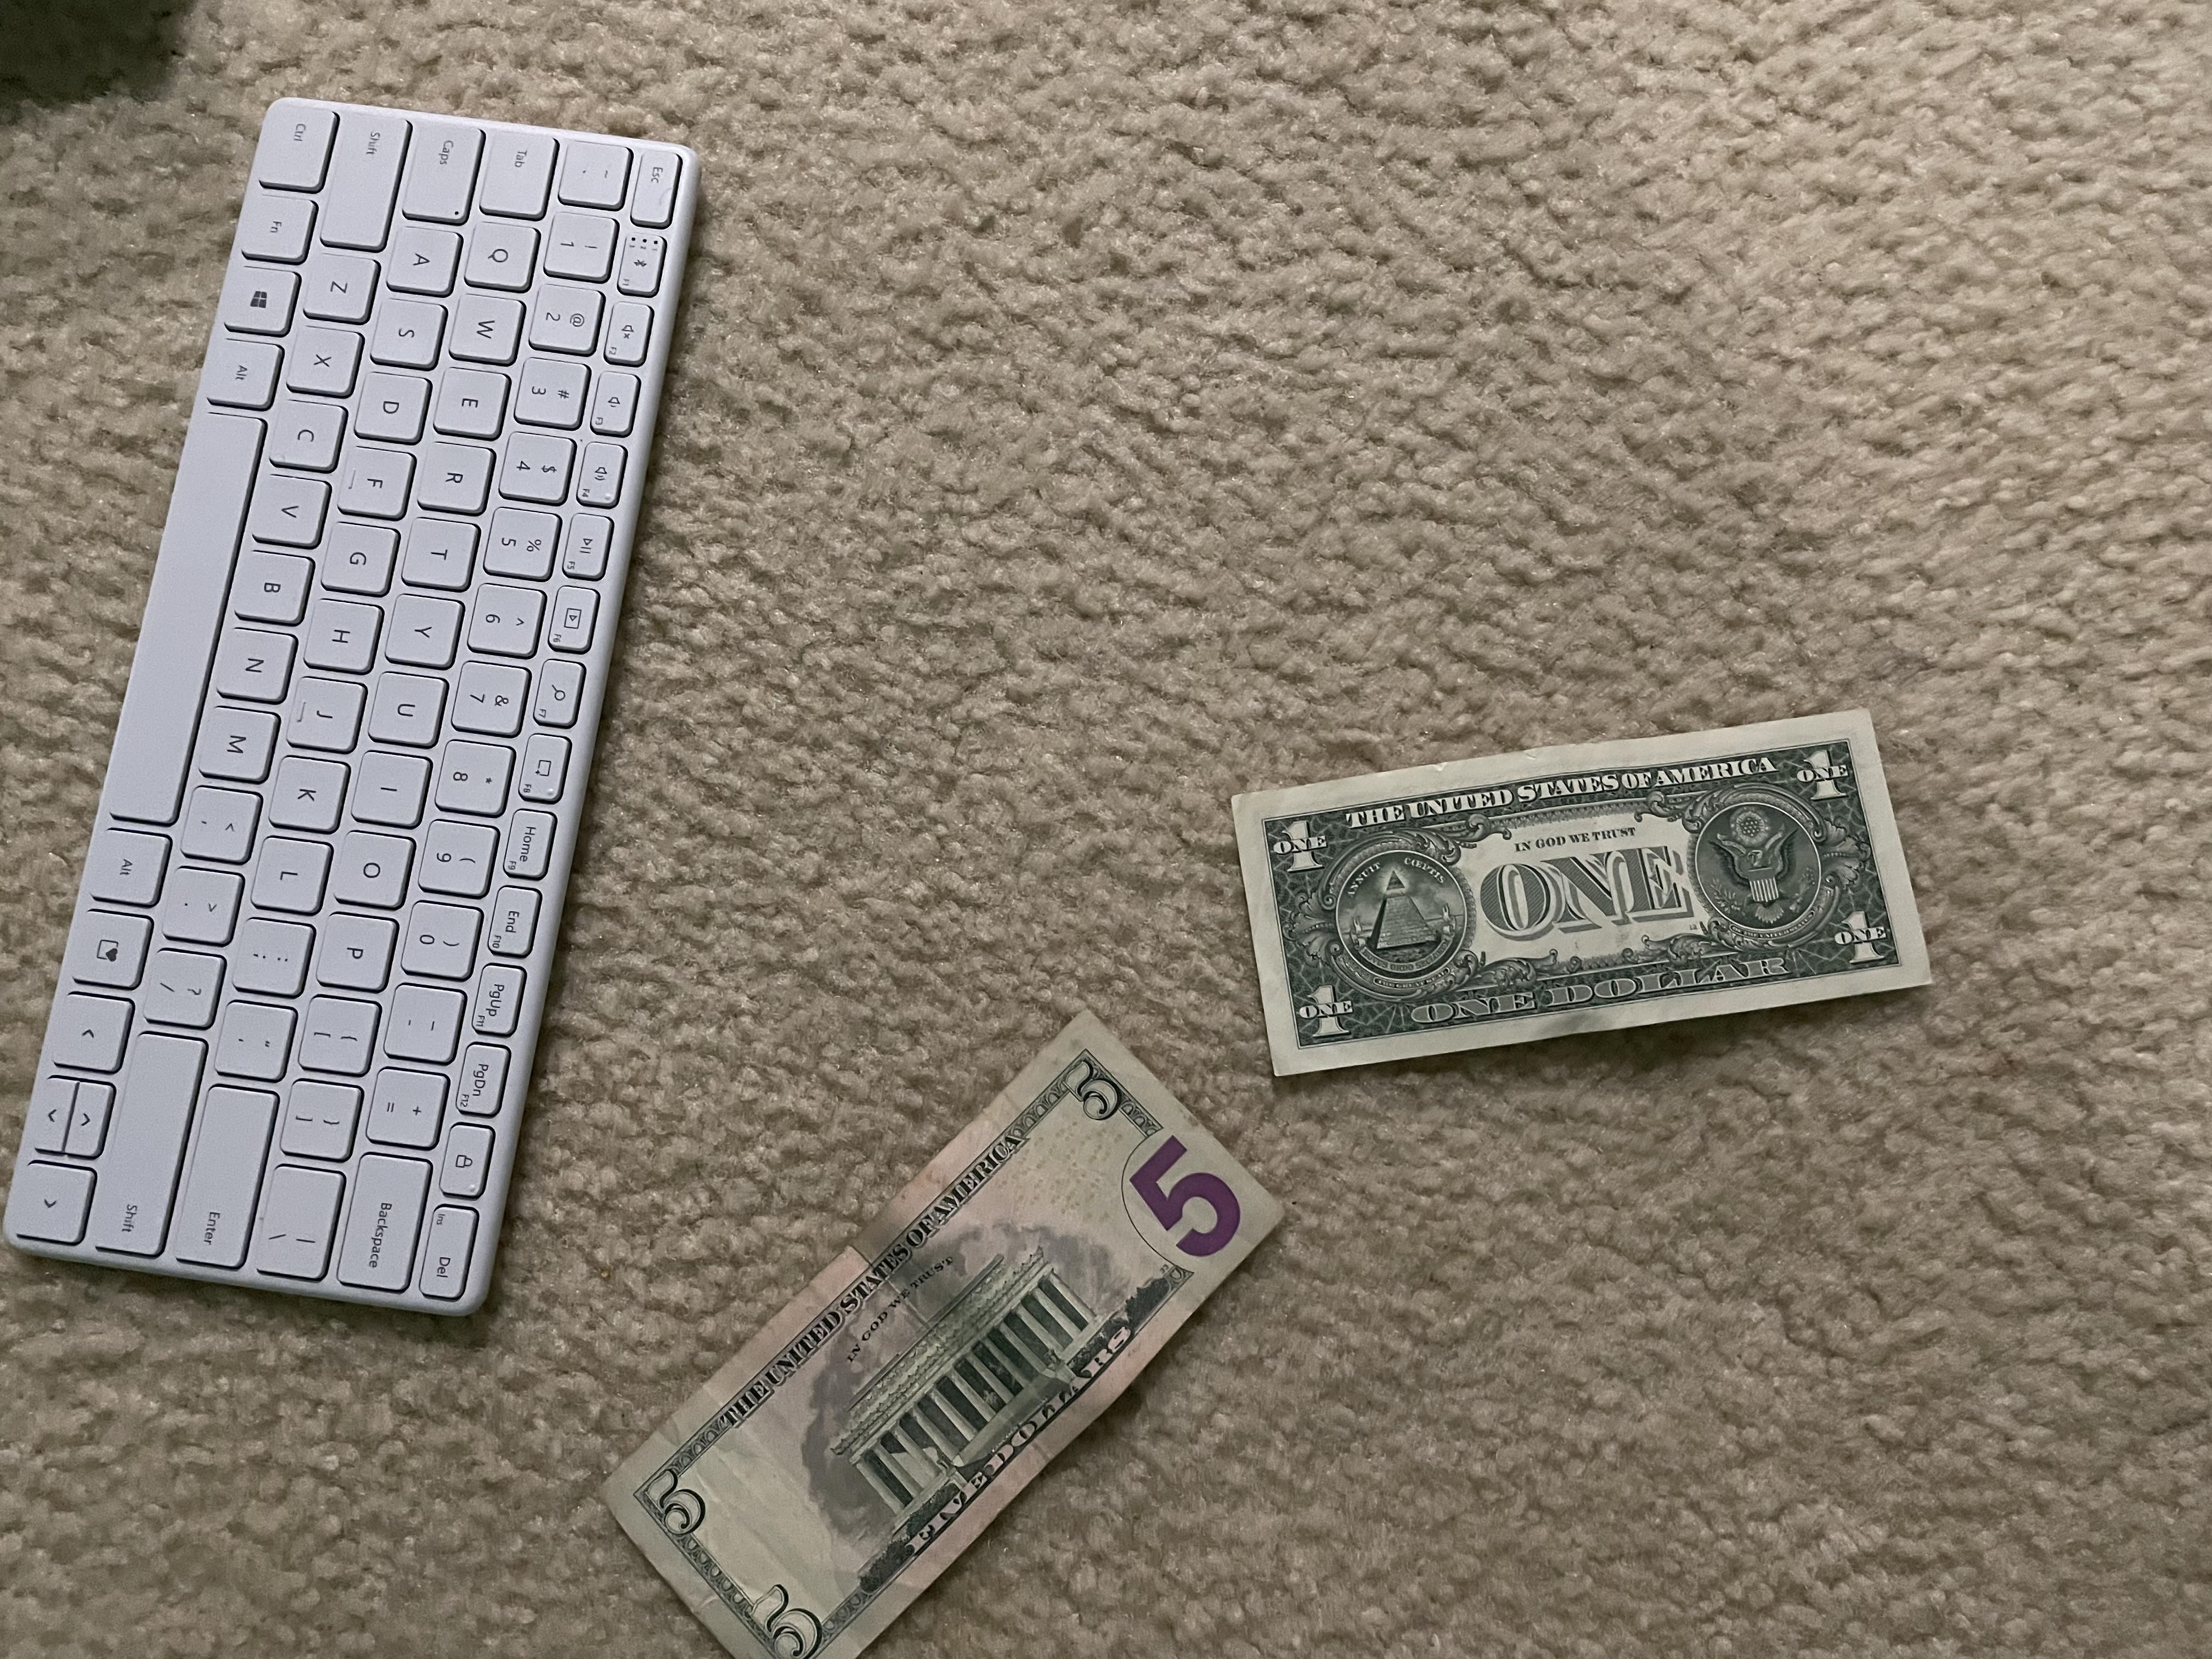FiveBill: (597, 1000, 1285, 1654)
OneBill: (1217, 702, 1946, 1094)
